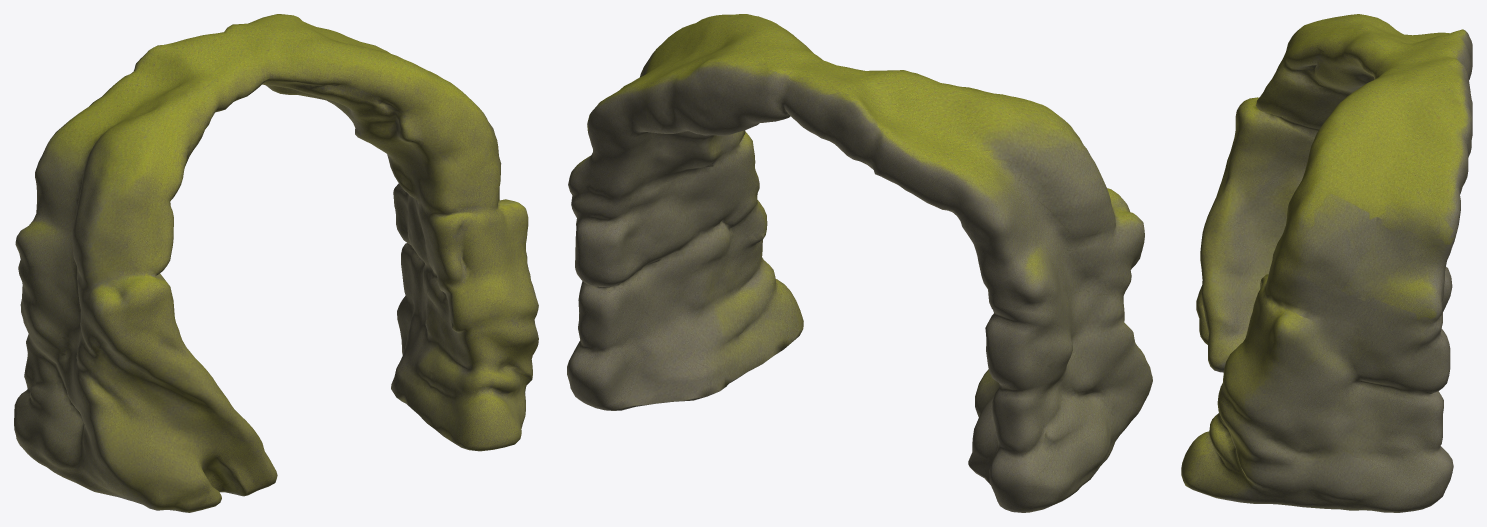
The model's file is Meshy_AI_A_highly_detailed_ph_0820123620_texture.obj.
3 renders of one model, left to right at view 1: azimuth 30°, elevation 25°; view 2: azimuth 150°, elevation 25°; view 3: azimuth 270°, elevation 25°, orthographic. The views are drawn at different scales.
Parts seen in each view (by area): view 1: Meshy_AI_A_highly_detailed_ph_0820123620_texture; view 2: Meshy_AI_A_highly_detailed_ph_0820123620_texture; view 3: Meshy_AI_A_highly_detailed_ph_0820123620_texture.
Part boxes in pixels (bbox=[...]): Meshy_AI_A_highly_detailed_ph_0820123620_texture: bbox=[14, 14, 538, 512]; Meshy_AI_A_highly_detailed_ph_0820123620_texture: bbox=[567, 14, 1152, 512]; Meshy_AI_A_highly_detailed_ph_0820123620_texture: bbox=[1181, 14, 1472, 512].
Size of the model in its own units: 1.91 by 1.46 by 1.07.
Materials: 1 (1 with a texture image).
